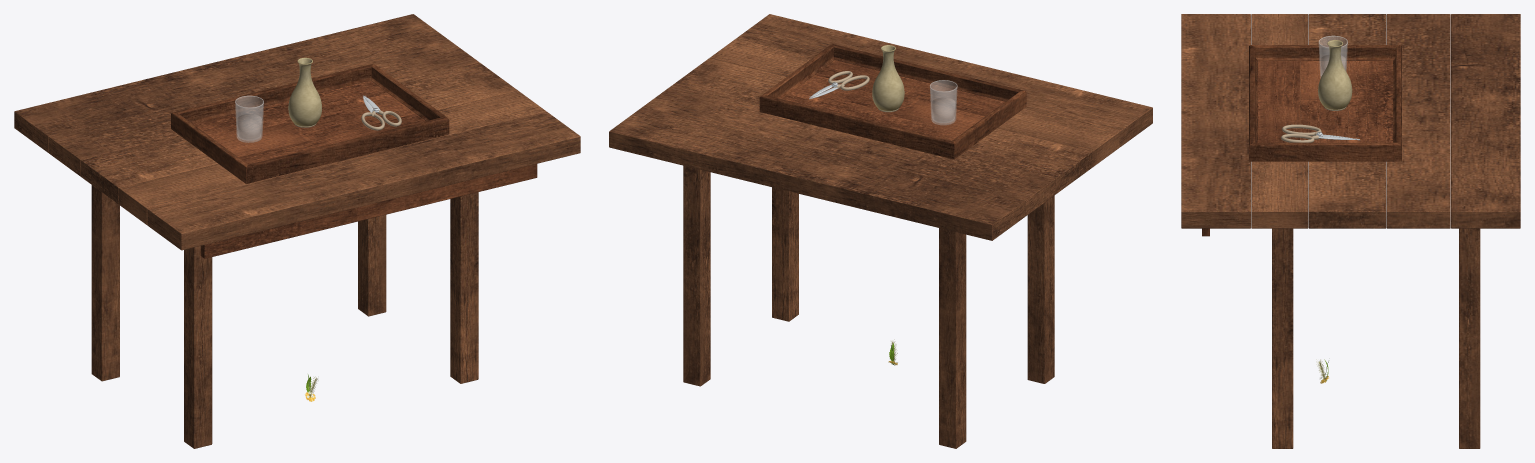
Rendered from prop-kit-garden-v9.glb.
3 renders of one model, left to right at view 1: azimuth 30°, elevation 25°; view 2: azimuth 150°, elevation 25°; view 3: azimuth 270°, elevation 25°, orthographic. The views are drawn at different scales.
Parts seen in each view (by area): view 1: Bench board 0, Bench board 4, Bench board 3, Bench board 2, Bench board 1, table_leg, table_leg.002, table_leg.001, Front apron, Mitred tray rail 0, Floating tray panel 1, Floating tray panel 2 (+7 smaller); view 2: Bench board 4, Bench board 3, Bench board 0, Bench board 2, table_leg.003, table_leg.001, Bench board 1, table_leg, Mitred tray rail 2, table_leg.002, Floating tray panel 1, Floating tray panel 0 (+6 smaller); view 3: Bench board 4, Bench board 0, Bench board 3, Bench board 2, Bench board 1, table_leg.002, table_leg.003, Floating tray panel 2, Floating tray panel 0, Mitred tray rail 1, Floating tray panel 1, Mitred tray rail 3 (+4 smaller).
Part boxes in pixels (x1,y1,x2,y2): Bench board 0: (147,111,580,250); Bench board 4: (14,14,447,152); Bench board 3: (48,39,479,176); Bench board 2: (80,62,517,204); Bench board 1: (119,90,545,224); table_leg: (184,246,212,448); table_leg.002: (450,192,478,383); table_leg.001: (91,185,119,381); Front apron: (200,164,537,258); Mitred tray rail 0: (246,117,449,183); Floating tray panel 1: (215,96,415,157); Floating tray panel 2: (193,80,392,139); Bench board 4: (609,107,1025,240); Bench board 3: (642,85,1055,216); Bench board 0: (737,14,1152,146); Bench board 2: (673,58,1092,193); table_leg.003: (683,165,710,386); table_leg.001: (939,228,966,448); Bench board 1: (710,38,1119,166); table_leg: (1027,195,1054,383); Mitred tray rail 2: (759,95,954,159); table_leg.002: (772,187,798,321); Floating tray panel 1: (792,75,985,132); Floating tray panel 0: (815,60,1005,116); Bench board 4: (1451,14,1520,228); Bench board 0: (1181,14,1250,228); Bench board 3: (1386,14,1450,228); Bench board 2: (1308,14,1386,228); Bench board 1: (1251,14,1308,228); table_leg.002: (1272,228,1293,448); table_leg.003: (1459,228,1480,448); Floating tray panel 2: (1348,61,1392,142); Floating tray panel 0: (1258,61,1299,142); Mitred tray rail 1: (1249,142,1401,161); Floating tray panel 1: (1300,61,1347,142); Mitred tray rail 3: (1250,45,1400,61).
Size of the model in its own units: 1.2 by 0.9633 by 0.8708.
32 materials, 6 textured.
